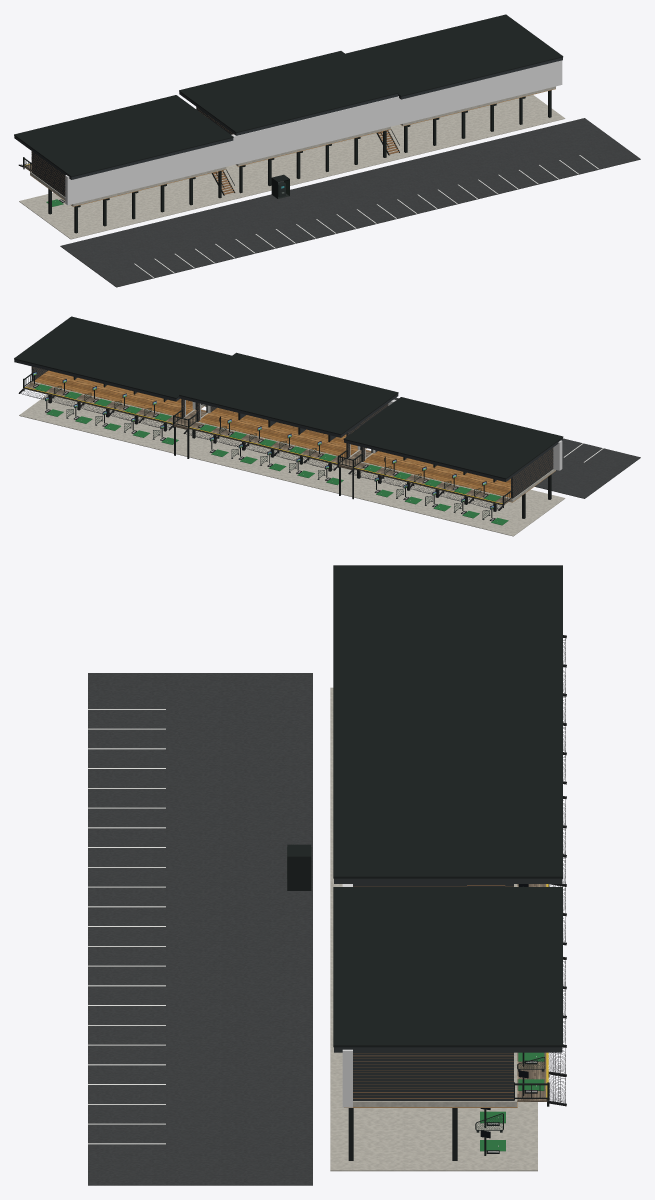
The model's file is driving_range_l4.gltf.
3 views of the same model, one above another, from view 1: azimuth 30°, elevation 25°; view 2: azimuth 150°, elevation 25°; view 3: azimuth 270°, elevation 25° (orthographic). The views are drawn at different scales.
Parts seen in each view (by area): view 1: BASE.006, ROOF.006, COL_pavilions, WALLS_HIGH.006; view 2: BASE.006, ROOF.006, WALLS_HIGH.006; view 3: BASE.006, ROOF.006, WALLS_HIGH.006.
Part boxes in pixels (box(x1,y1,x2,y2)): BASE.006: box(18, 86, 640, 287); ROOF.006: box(14, 14, 563, 179); COL_pavilions: box(65, 60, 562, 205); WALLS_HIGH.006: box(23, 90, 551, 233); BASE.006: box(18, 370, 640, 536); ROOF.006: box(14, 316, 563, 481); WALLS_HIGH.006: box(23, 366, 553, 518); BASE.006: box(88, 635, 566, 1185); ROOF.006: box(333, 565, 562, 1052); WALLS_HIGH.006: box(348, 884, 549, 1160).
Size of the model in its own units: 70 by 8.46 by 27.66.
24 materials, 5 textured.
